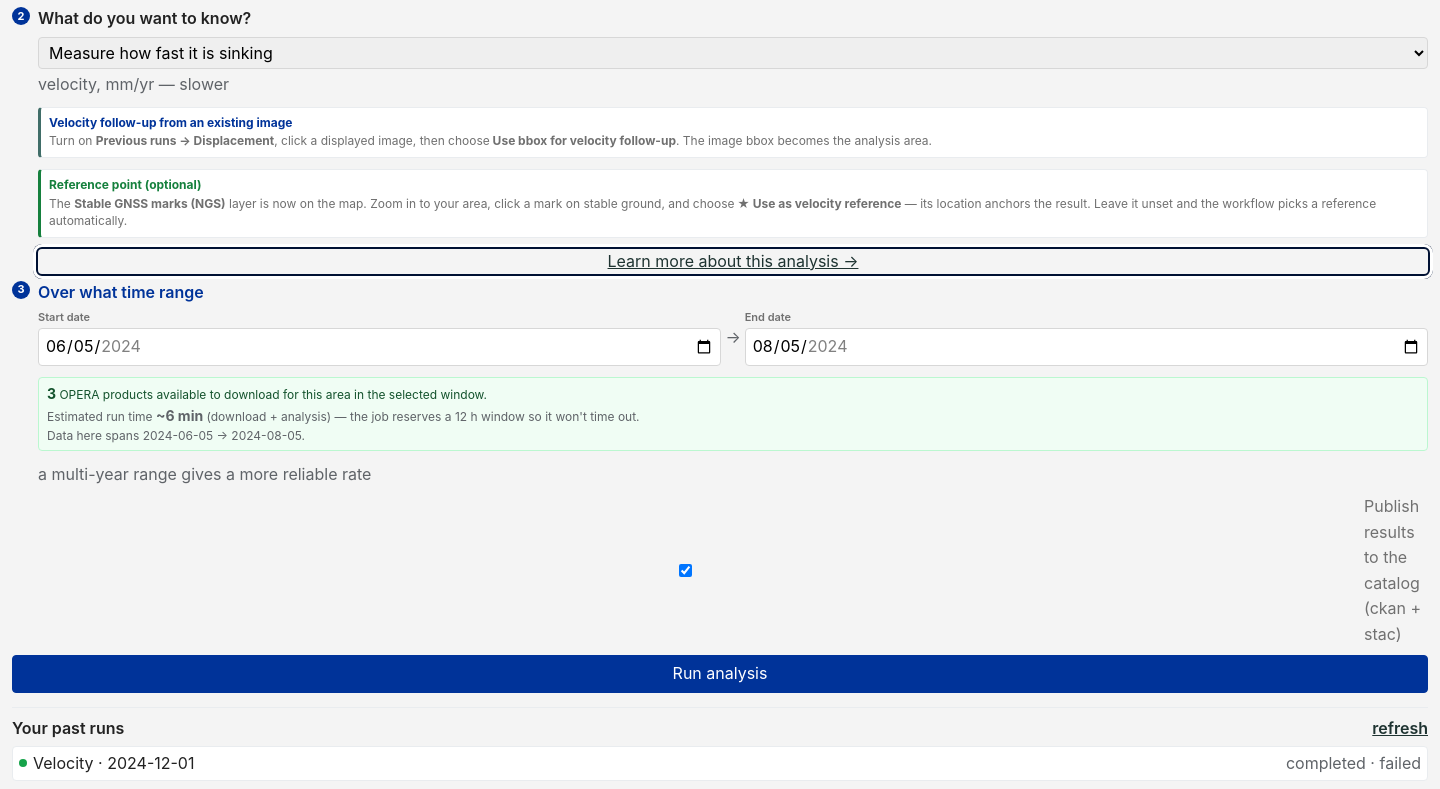
Scenario: dynamo mode › results: window comes from the run row region and thread dates, not the legacy results endpoint
(page scrolled)
Click the button titled "WERC": [63, 763] box top-left (12, 746), bottom-right (1428, 781)
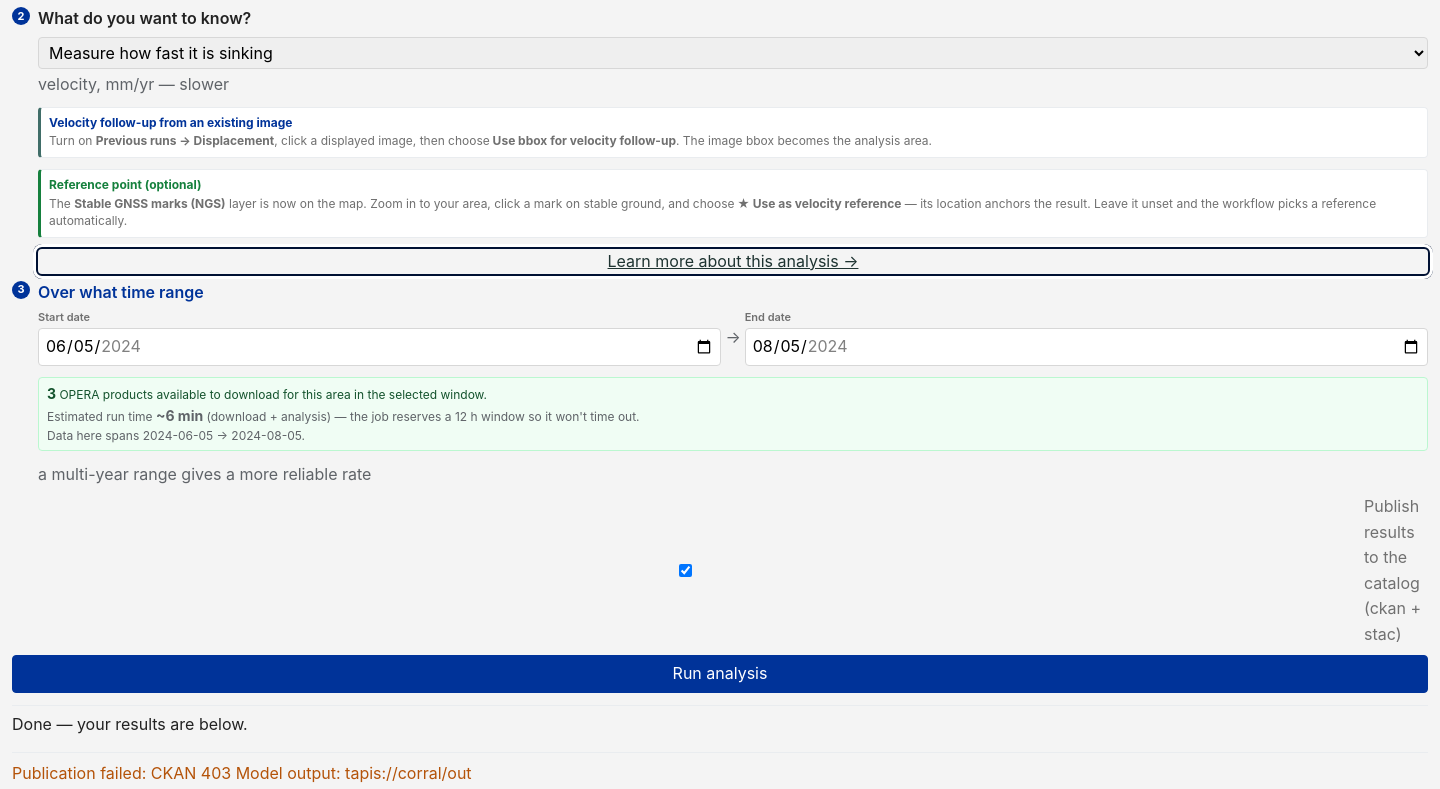
expect the text "Publication failed: CKAN 403 Model output: tapis://corral/out" is shown: met, box top-left (12, 763), bottom-right (472, 783)
